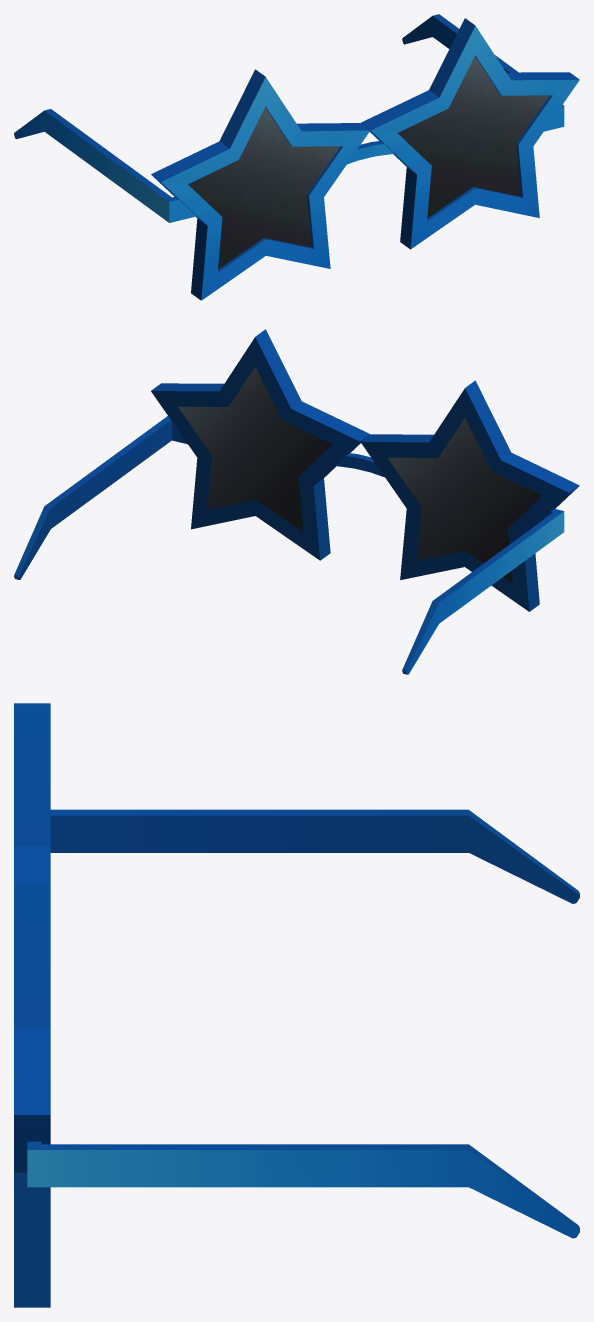
Rendered from Star014.fbx.
3 views of the same model, one above another, from view 1: azimuth 30°, elevation 25°; view 2: azimuth 150°, elevation 25°; view 3: azimuth 270°, elevation 25° (orthographic). The views are drawn at different scales.
Parts seen in each view (by area): view 1: Star014.108; view 2: Star014.108; view 3: Star014.108.
Boxes of the visible parts, left/top/right/bottom form: Star014.108: left=14, top=14, right=579, bottom=300; Star014.108: left=14, top=329, right=579, bottom=674; Star014.108: left=14, top=703, right=579, bottom=1307.
Bounding box in the file's own units: 92.52 × 43.99 × 61.32.
